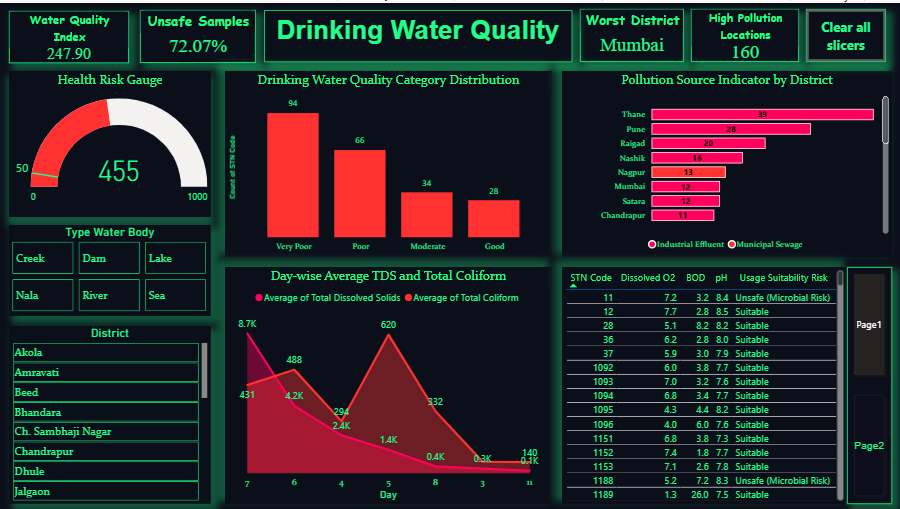

What the dashboard file says about the page in this screenshot:
{"tool":"powerbi","page":{"name":"Page1","canvas":[1280,720],"ordinal":0},"visuals":[{"type":"card","title":"Water Quality Index","fields":{"Values":["Measures Table.Average Drinking WQI"]},"box":[14.2,11.3,170.1,73.7],"z":0},{"type":"card","title":"Unsafe Samples","fields":{"Values":["Measures Table.% Unsafe Drinking Water Samples"]},"box":[199.8,9.9,164.4,75.1],"z":1000},{"type":"card","title":"Worst District","fields":{"Values":["Measures Table.Worst affected District"]},"box":[823.5,8.5,147.4,75.1],"z":2000},{"type":"card","title":"High Pollution Locations","fields":{"Values":["Measures Table.High Pollution Locations"]},"box":[980.8,8.5,153.1,75.1],"z":3000},{"type":"textbox","box":[375.6,9.9,436.5,73.7],"z":4000},{"type":"columnChart","title":"Drinking Water Quality Category Distribution","fields":{"Category":["Water Sampling Data.Drinking WQI Status"],"Y":["CountNonNull(Water Sampling Data.STN Code)"]},"box":[320.3,96.4,463.5,263.6],"z":5000},{"type":"barChart","title":"Pollution Source Indicator by District","fields":{"Series":["Water Sampling Data.Major Polluting Sources"],"Category":["Water Sampling Data.District"],"Y":["CountNonNull(Water Sampling Data.Drinking WQI)"]},"box":[798,96.4,467.7,263.6],"z":6000},{"type":"areaChart","title":"Day-wise Average TDS and Total Coliform","fields":{"Category":["Calendar.Day"],"Y":["Avg(Water Sampling Data.Total Dissolved Solids)"],"Y2":["Avg(Water Sampling Data.Total Coliform)"]},"box":[320.3,374.2,463.5,335.9],"z":7000},{"type":"tableEx","fields":{"Values":["Water Sampling Data.STN Code","Water Sampling Data.Dissolved O2","Water Sampling Data.BOD","Water Sampling Data.pH","Water Sampling Data.Usage Suitability Risk"]},"box":[798,374.2,403.9,335.9],"z":8000},{"type":"gauge","title":"Health Risk Gauge","fields":{"Y":["Avg(Water Sampling Data.Total Coliform)"],"MinValue":["Measures Table.Min Total Coliform Range"],"MaxValue":["Measures Table.Max Total Coliform Range"],"TargetValue":["Measures Table.Target Total Coliform Range"]},"box":[14.2,96.4,286.3,206.9],"z":9000},{"type":"advancedSlicerVisual","fields":{"Values":["Water Sampling Data.Type Water Body"]},"box":[14.2,314.6,286.3,129],"z":10000},{"type":"listSlicer","fields":{"Values":["Water Sampling Data.District"]},"box":[14.2,457.8,286.3,252.3],"z":11000},{"type":"pageNavigator","box":[1201.9,374.2,63.8,335.9],"z":12000},{"type":"actionButton","box":[1143.8,8.5,113.4,75.1],"z":12001}]}

Visuals, with their boxes in screenshot pixels (x1, y1, x2, y2), scaled from the page's 1280x720 canvas onto the 900x509 screenshot:
"Water Quality Index" card: bbox=[10, 8, 130, 60]
"Unsafe Samples" card: bbox=[140, 7, 256, 60]
"Worst District" card: bbox=[579, 6, 683, 59]
"High Pollution Locations" card: bbox=[690, 6, 797, 59]
textbox: bbox=[264, 7, 571, 59]
"Drinking Water Quality Category Distribution" columnChart: bbox=[225, 68, 551, 255]
"Pollution Source Indicator by District" barChart: bbox=[561, 68, 890, 255]
"Day-wise Average TDS and Total Coliform" areaChart: bbox=[225, 265, 551, 502]
tableEx - Water Sampling Data.STN Code x Water Sampling Data.Dissolved O2: bbox=[561, 265, 845, 502]
"Health Risk Gauge" gauge: bbox=[10, 68, 211, 214]
advancedSlicerVisual - Water Sampling Data.Type Water Body: bbox=[10, 222, 211, 314]
listSlicer - Water Sampling Data.District: bbox=[10, 324, 211, 502]
pageNavigator: bbox=[845, 265, 890, 502]
actionButton: bbox=[804, 6, 884, 59]
